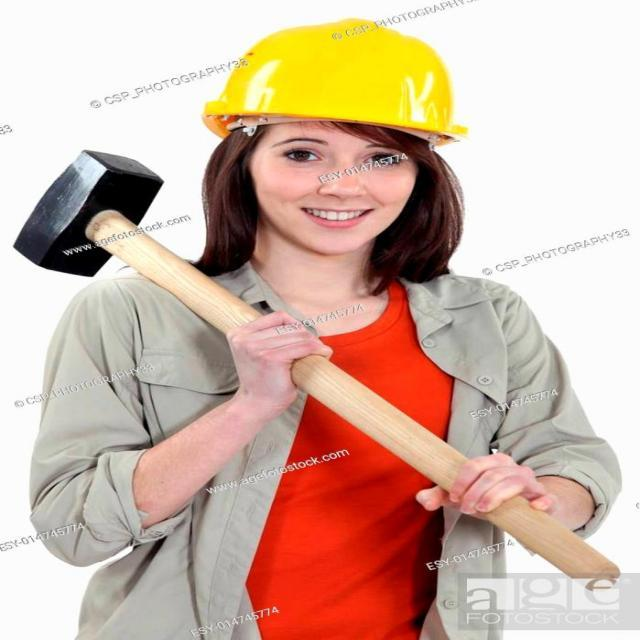hammer: (8, 144, 633, 596)
